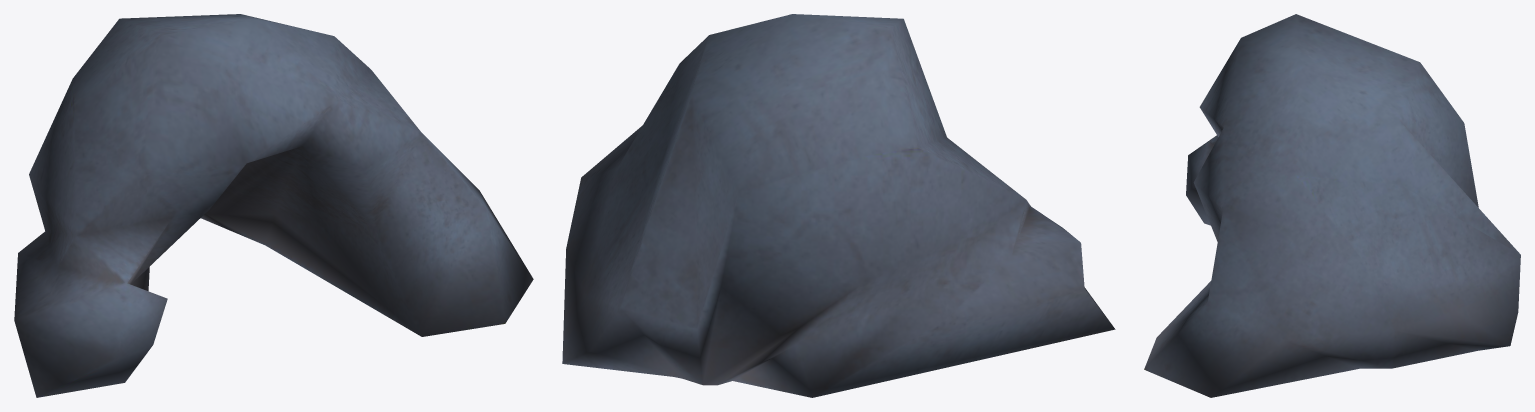
The model's file is cave.fbx.
3 renders of one model, left to right at view 1: azimuth 30°, elevation 25°; view 2: azimuth 150°, elevation 25°; view 3: azimuth 270°, elevation 25°, orthographic. The views are drawn at different scales.
Parts seen in each view (by area): view 1: cave; view 2: cave; view 3: cave.
Part boxes in pixels (x1,y1,x2,y2): cave: (14, 14, 533, 397); cave: (562, 14, 1115, 397); cave: (1144, 14, 1520, 397).
Bounding box in the file's own units: 309 × 171 × 235.
